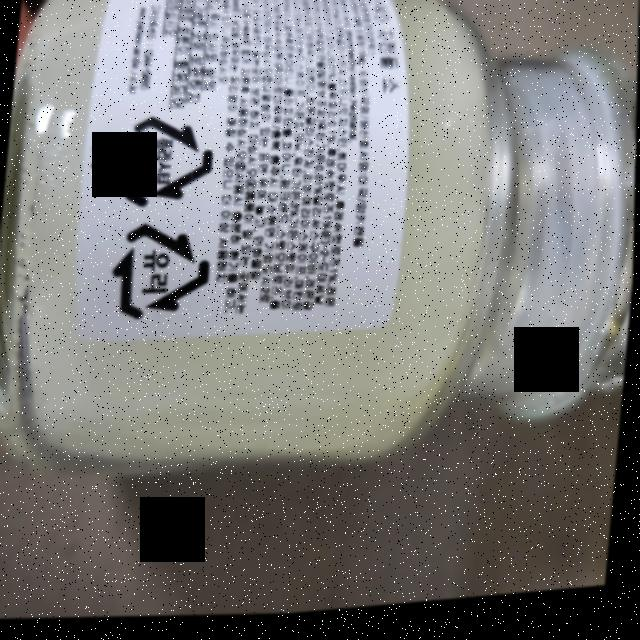Glass: (108, 214, 220, 333)
Plastic: (111, 105, 222, 223)
